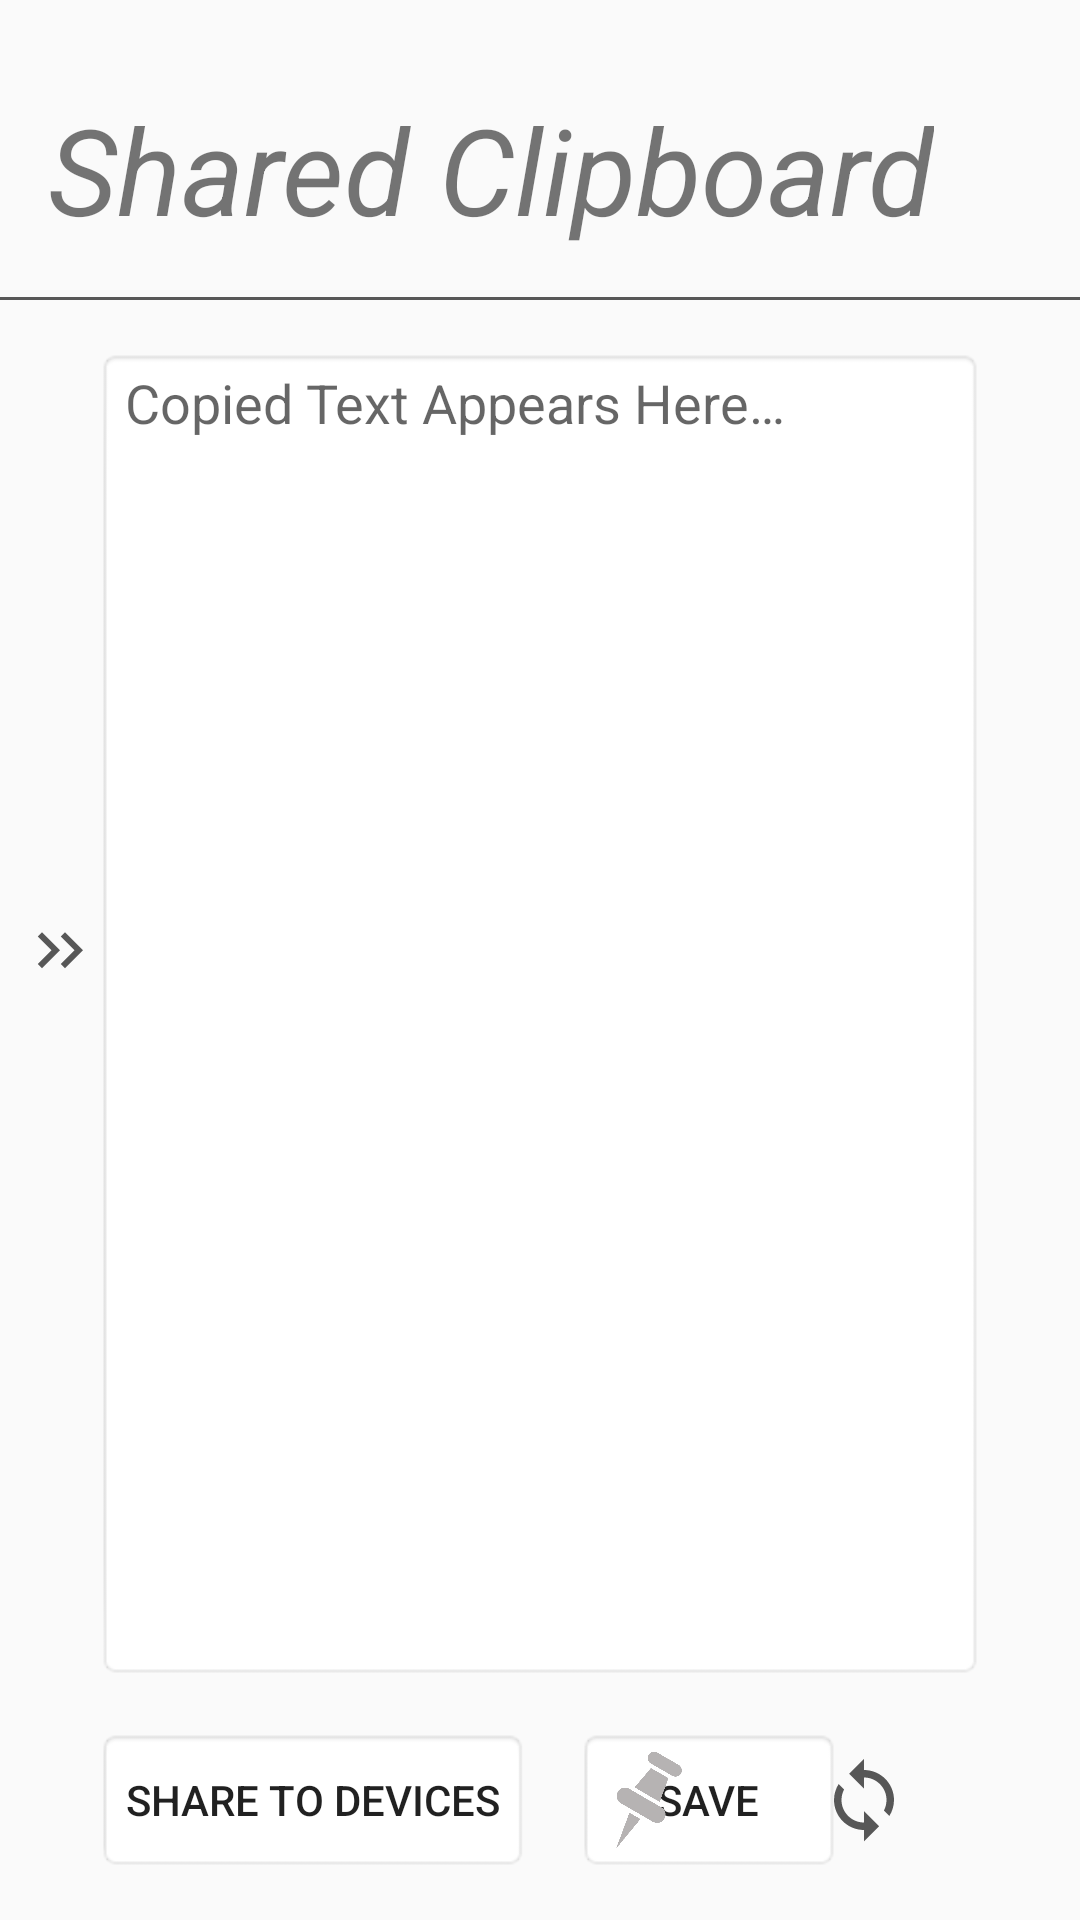

Where icons sit on this 1080 x 1920 app screen, as box=[x1, y1, x2, y2]:
Sync Button: box=[834, 1759, 894, 1841]
